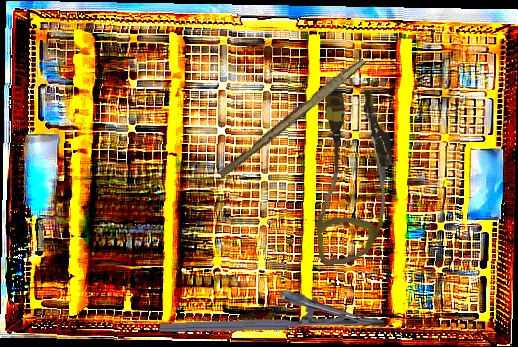Cannula: (305, 87, 401, 266)
Needle Holder: (159, 287, 385, 334)
Scalpel Handle: (217, 53, 367, 182)
